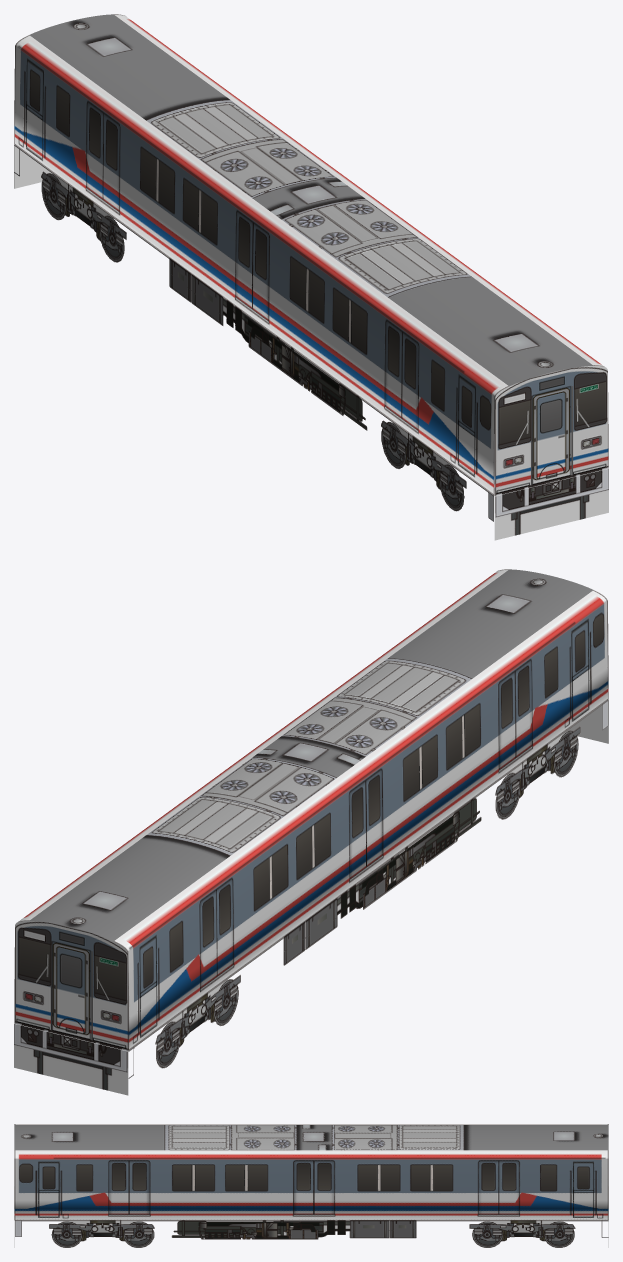
Rendered from car1.glb.
3 views of the same model, one above another, from view 1: azimuth 30°, elevation 25°; view 2: azimuth 150°, elevation 25°; view 3: azimuth 270°, elevation 25° (orthographic). The views are drawn at different scales.
Visible parts, largest first — view 1: kanto-kiha2000-car1; view 2: kanto-kiha2000-car1; view 3: kanto-kiha2000-car1.
Boxes of the visible parts, x1,y1,x2,y2 form: kanto-kiha2000-car1: [14, 14, 608, 540]; kanto-kiha2000-car1: [14, 569, 608, 1095]; kanto-kiha2000-car1: [14, 1124, 608, 1247].
Size of the model in its own units: 2.8 by 3.61 by 20.42.
Materials: 8 (7 with a texture image).
